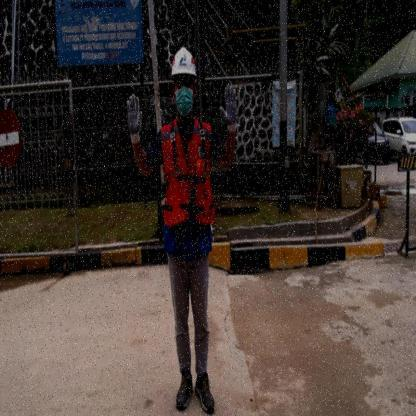boots: (193, 370, 216, 414), (176, 369, 194, 410)
gloves: (219, 83, 240, 135), (126, 93, 142, 146)
helmet: (170, 45, 198, 79)
mask: (174, 88, 194, 116)
vest: (163, 156, 216, 228)
